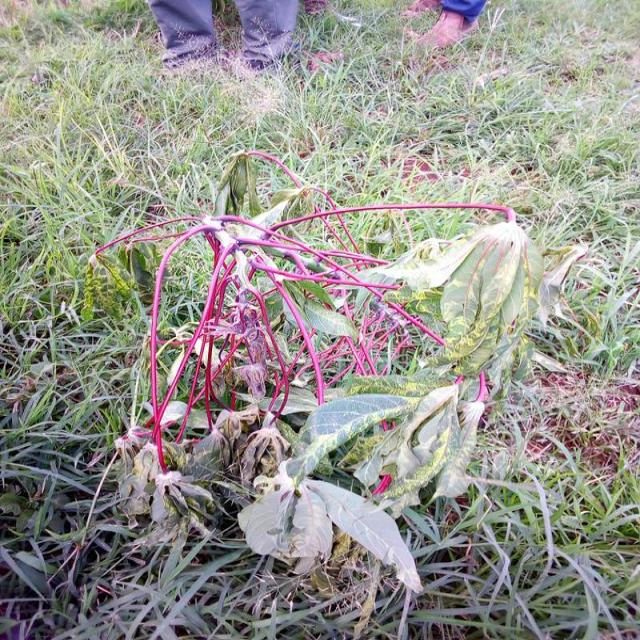cassava leaf: (92, 150, 551, 596), (436, 218, 544, 376)
